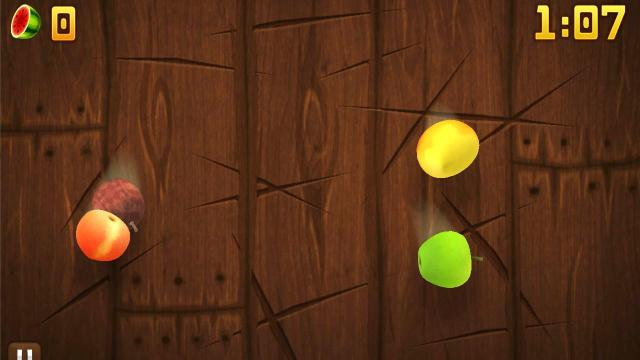fruit: (416, 119, 480, 179), (417, 231, 477, 287), (90, 178, 146, 232), (75, 209, 131, 262)
ignore: (9, 3, 43, 41)
